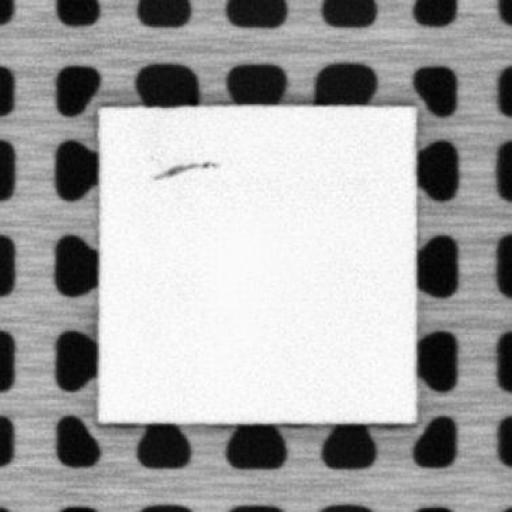DIE_INK: (149, 156, 217, 184)
